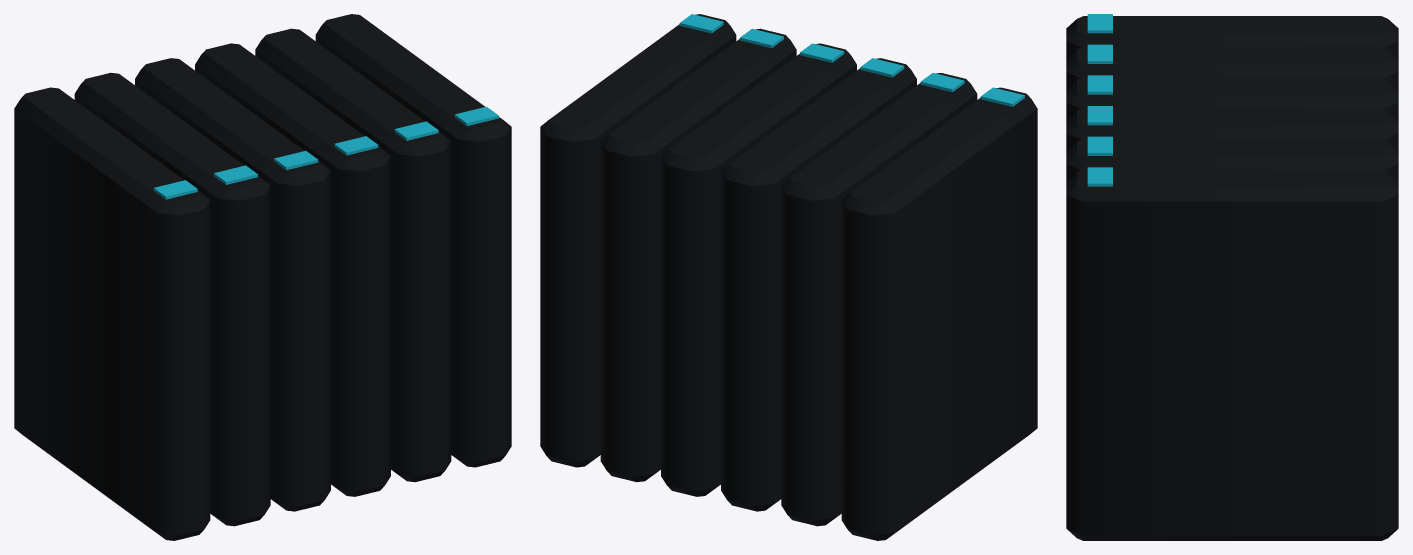
Rendered from mcc3_memory.obj.
3 renders of one model, left to right at view 1: azimuth 30°, elevation 25°; view 2: azimuth 150°, elevation 25°; view 3: azimuth 270°, elevation 25°, orthographic. The views are drawn at different scales.
Visible parts, largest first — view 1: mcc3_memory; view 2: mcc3_memory; view 3: mcc3_memory.
Boxes of the visible parts, bbox=[...] form: mcc3_memory: bbox=[14, 14, 511, 540]; mcc3_memory: bbox=[540, 14, 1037, 540]; mcc3_memory: bbox=[1066, 14, 1398, 540].
Bounding box in the file's own units: 1.01 × 0.928 × 0.784.
